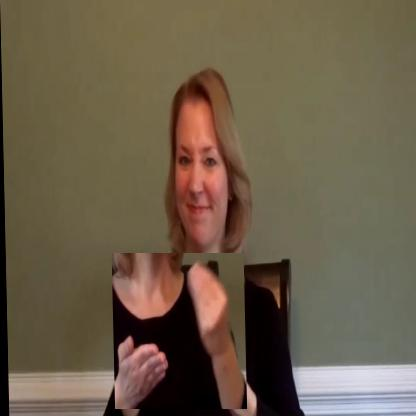Expensive: (110, 253, 245, 409)
